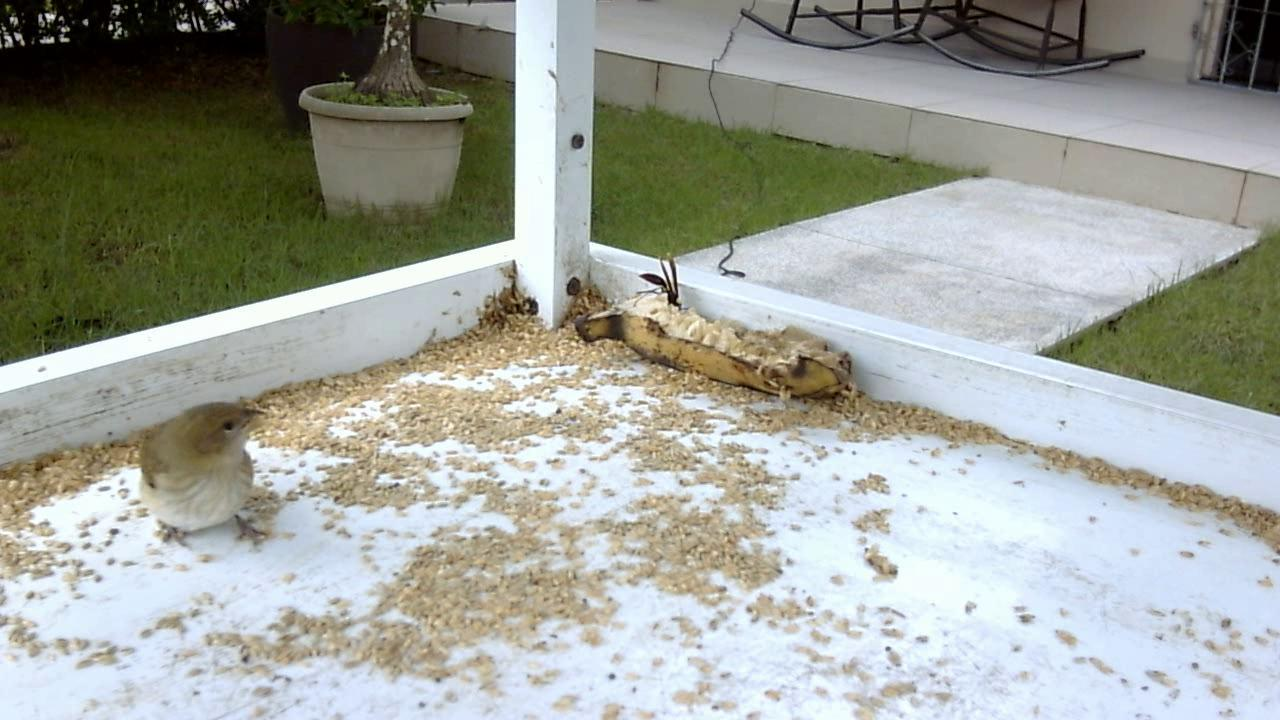canario_do_amazonas: (124, 395, 277, 557)
